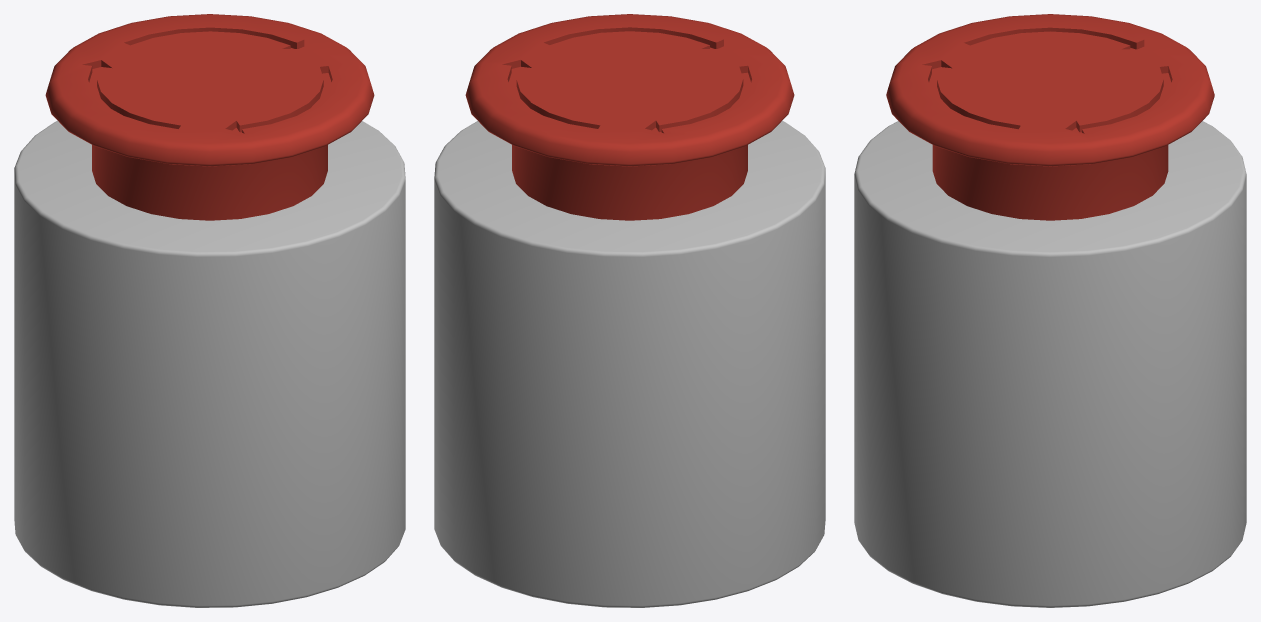
The model's file is CE_certification.glb.
3 renders of one model, left to right at view 1: azimuth 30°, elevation 25°; view 2: azimuth 150°, elevation 25°; view 3: azimuth 270°, elevation 25°, orthographic.
Parts seen in each view (by area): view 1: Cylinder, Button_Box_0; view 2: Cylinder, Button_Box_0; view 3: Cylinder, Button_Box_0.
Boxes of the visible parts, x1,y1,x2,y2 form: Cylinder: (14, 120, 405, 607); Button_Box_0: (45, 14, 374, 220); Cylinder: (434, 120, 825, 607); Button_Box_0: (465, 14, 794, 220); Cylinder: (854, 121, 1246, 607); Button_Box_0: (886, 14, 1214, 220).
Bounding box in the file's own units: 0.2854 × 0.3589 × 0.2854.
Materials: 2 (1 with a texture image).
